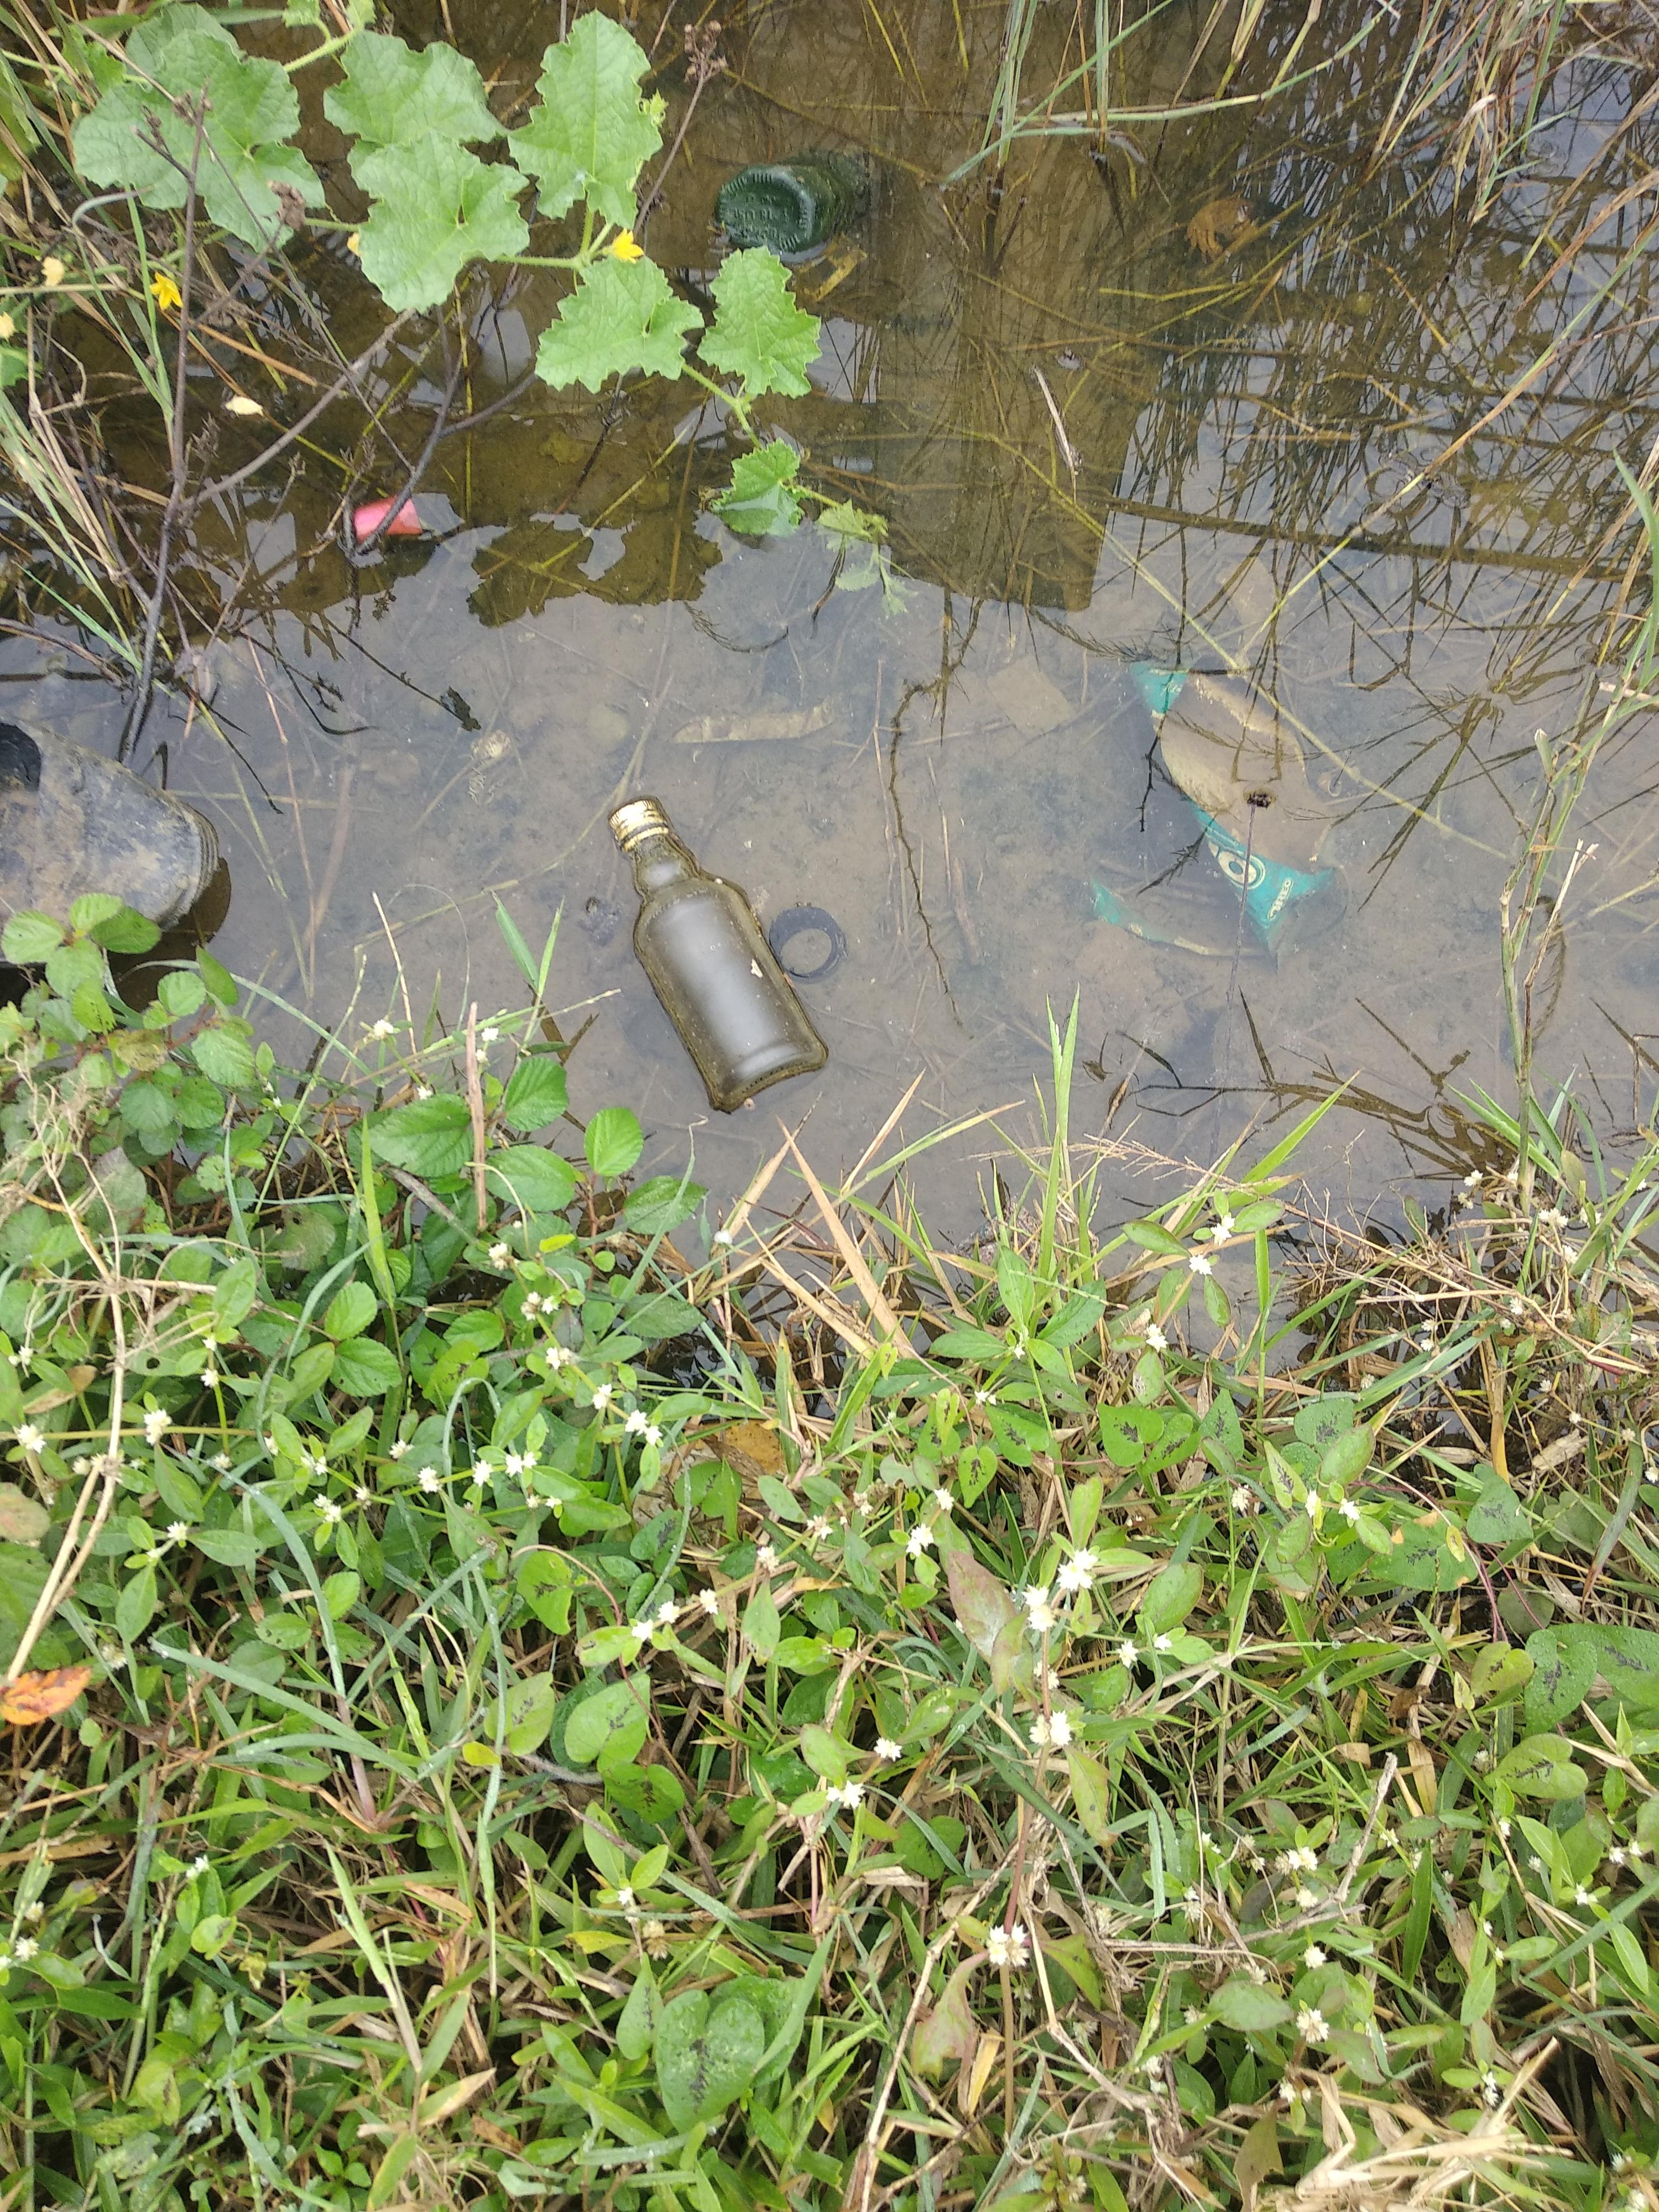organic: (599, 775, 847, 1136)
